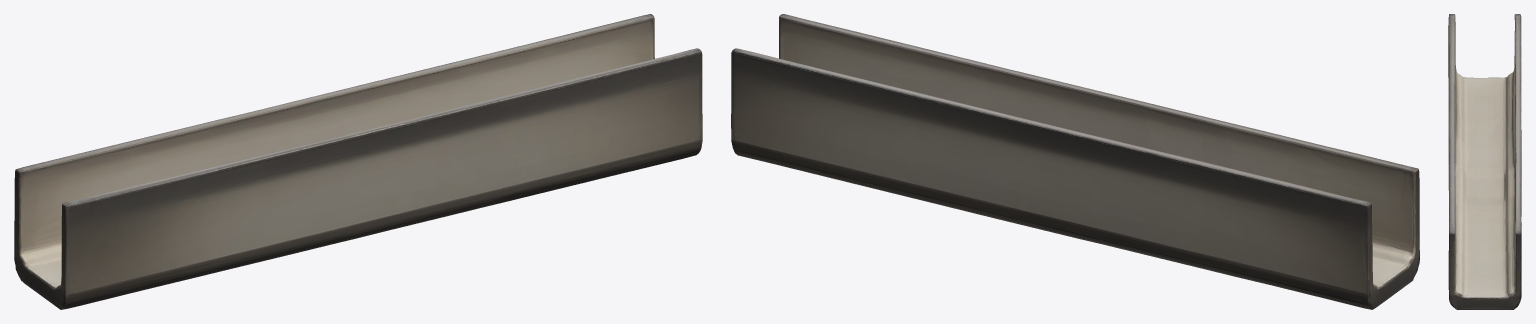
3 views of the same model, side by side, from view 1: azimuth 30°, elevation 25°; view 2: azimuth 150°, elevation 25°; view 3: azimuth 270°, elevation 25° (orthographic). The views are drawn at different scales.
Visible parts, largest first — view 1: geometry_0; view 2: geometry_0; view 3: geometry_0.
Part boxes in pixels (x1,y1,x2,y2): geometry_0: [14, 14, 702, 309]; geometry_0: [731, 14, 1419, 309]; geometry_0: [1448, 14, 1521, 309].
Size of the model in its own units: 1 by 0.1635 by 0.1409.
1 material, 1 textured.
